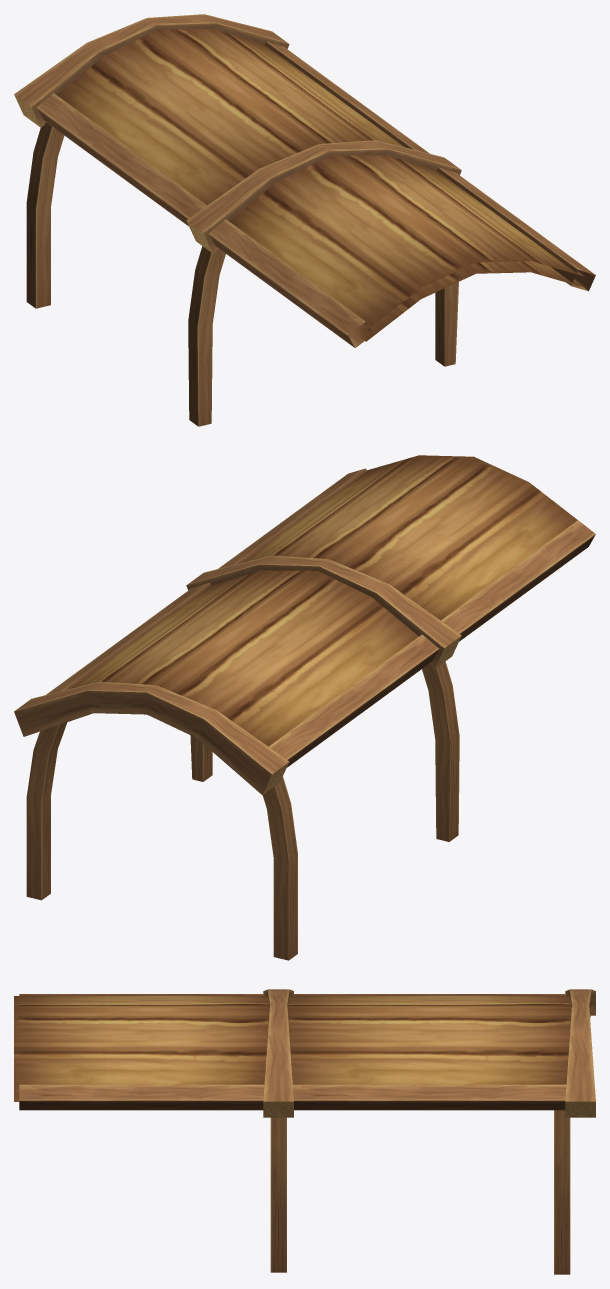
The model's file is bridge_02a_upperside_tile_02.fbx.
The picture shows the model from 3 angles, top to bottom: view 1: azimuth 30°, elevation 25°; view 2: azimuth 150°, elevation 25°; view 3: azimuth 270°, elevation 25°; orthographic projection. The views are drawn at different scales.
Visible parts, largest first — view 1: bridge_02a_upperside_tile_02; view 2: bridge_02a_upperside_tile_02; view 3: bridge_02a_upperside_tile_02.
Boxes of the visible parts, x1,y1,x2,y2 form: bridge_02a_upperside_tile_02: (14, 14, 595, 426); bridge_02a_upperside_tile_02: (14, 455, 595, 960); bridge_02a_upperside_tile_02: (14, 989, 595, 1274).
Bounding box in the file's own units: 1.89 × 1.69 × 4.15.
